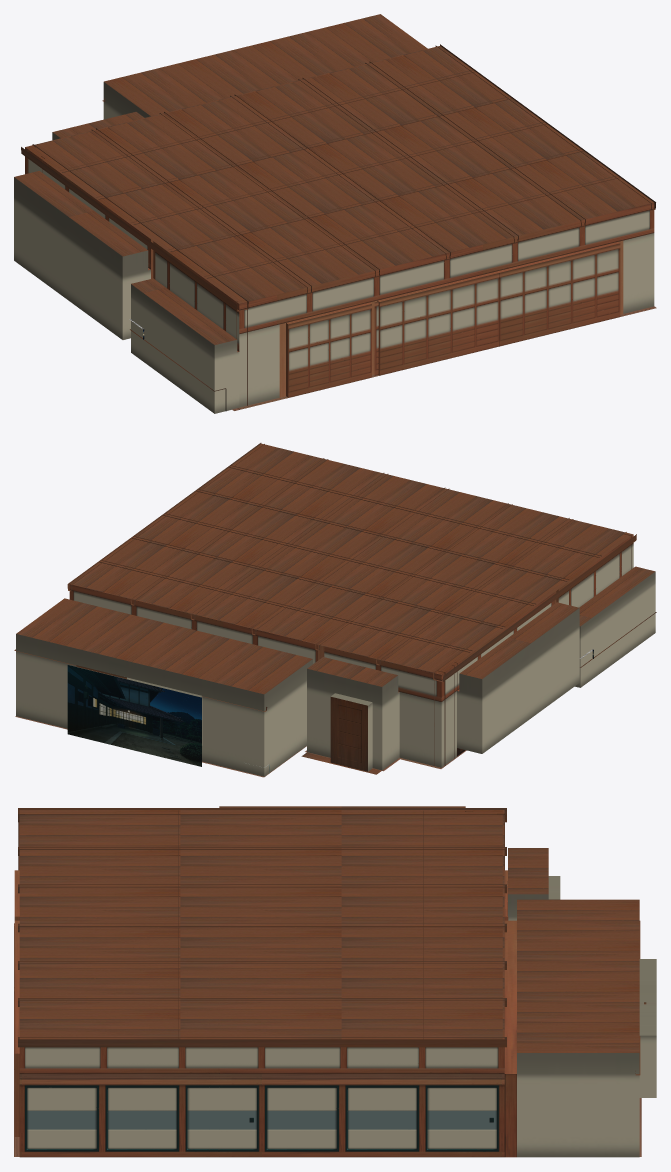
The model's file is ts_vroom001.FBX.
The picture shows the model from 3 angles, top to bottom: view 1: azimuth 30°, elevation 25°; view 2: azimuth 150°, elevation 25°; view 3: azimuth 270°, elevation 25°; orthographic projection. The views are drawn at different scales.
Parts seen in each view (by area): view 1: ts_vroom_wd001, ts_vroom_fj001, ts_vroom_db001; view 2: ts_vroom_wd001, ts_vroom_fj001, ts_vroom_bj001; view 3: ts_vroom_wd001, ts_vroom_fj001, ts_vroom_db001.
Part boxes in pixels (x1,y1,x2,y2): ts_vroom_wd001: (14, 14, 655, 344); ts_vroom_fj001: (14, 82, 654, 413); ts_vroom_db001: (232, 306, 656, 410); ts_vroom_wd001: (14, 443, 655, 711); ts_vroom_fj001: (16, 532, 656, 776); ts_vroom_bj001: (67, 665, 201, 766); ts_vroom_wd001: (18, 806, 640, 1075); ts_vroom_fj001: (14, 811, 656, 1157); ts_vroom_db001: (14, 923, 641, 1156).
Bounding box in the file's own units: 14.42 × 3.27 × 15.92.
